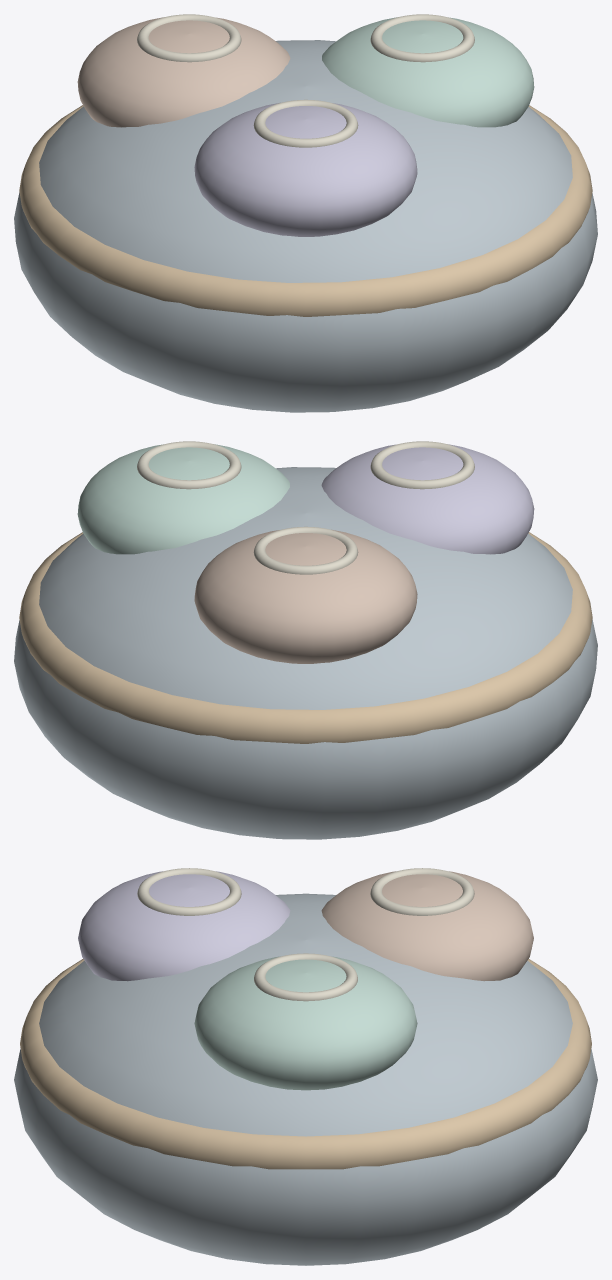
The model's file is chime-table.glb.
The picture shows the model from 3 angles, top to bottom: view 1: azimuth 30°, elevation 25°; view 2: azimuth 150°, elevation 25°; view 3: azimuth 270°, elevation 25°; orthographic projection.
Parts seen in each view (by area): view 1: chime-table; view 2: chime-table; view 3: chime-table.
Part boxes in pixels (x1=…): chime-table: x1=14, y1=14, x2=597, y2=412; chime-table: x1=14, y1=441, x2=597, y2=839; chime-table: x1=14, y1=868, x2=597, y2=1265.
Bounding box in the file's own units: 1.78 × 1.02 × 1.78.
